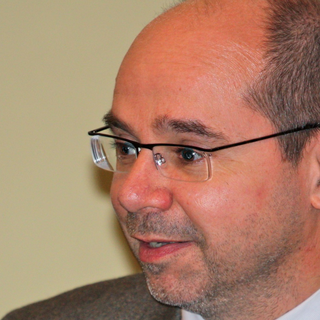eye: (169, 142, 207, 166), (106, 138, 146, 160)
